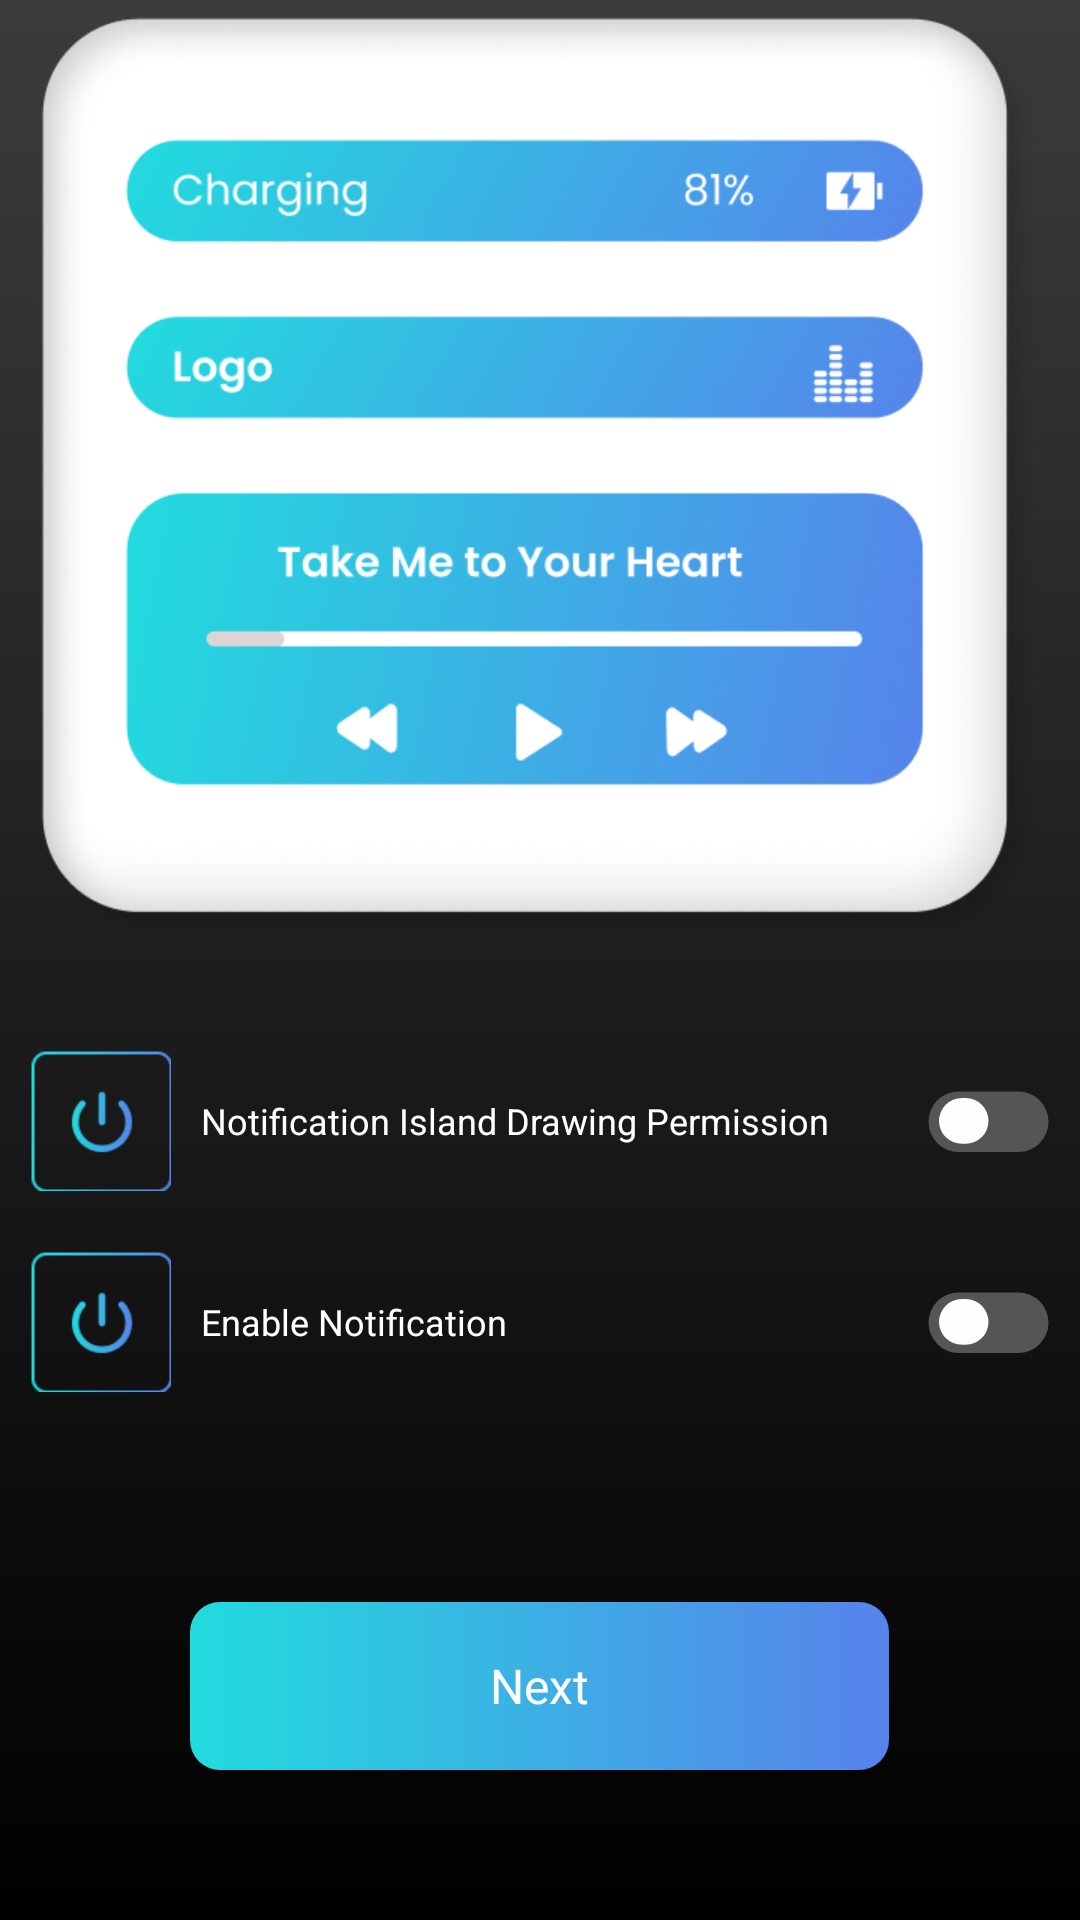

Icon click points for this 1080 × 1920 phone screenshot, format (x=x, y=y):
btntoggle: (x=988, y=1121), (x=988, y=1322)
